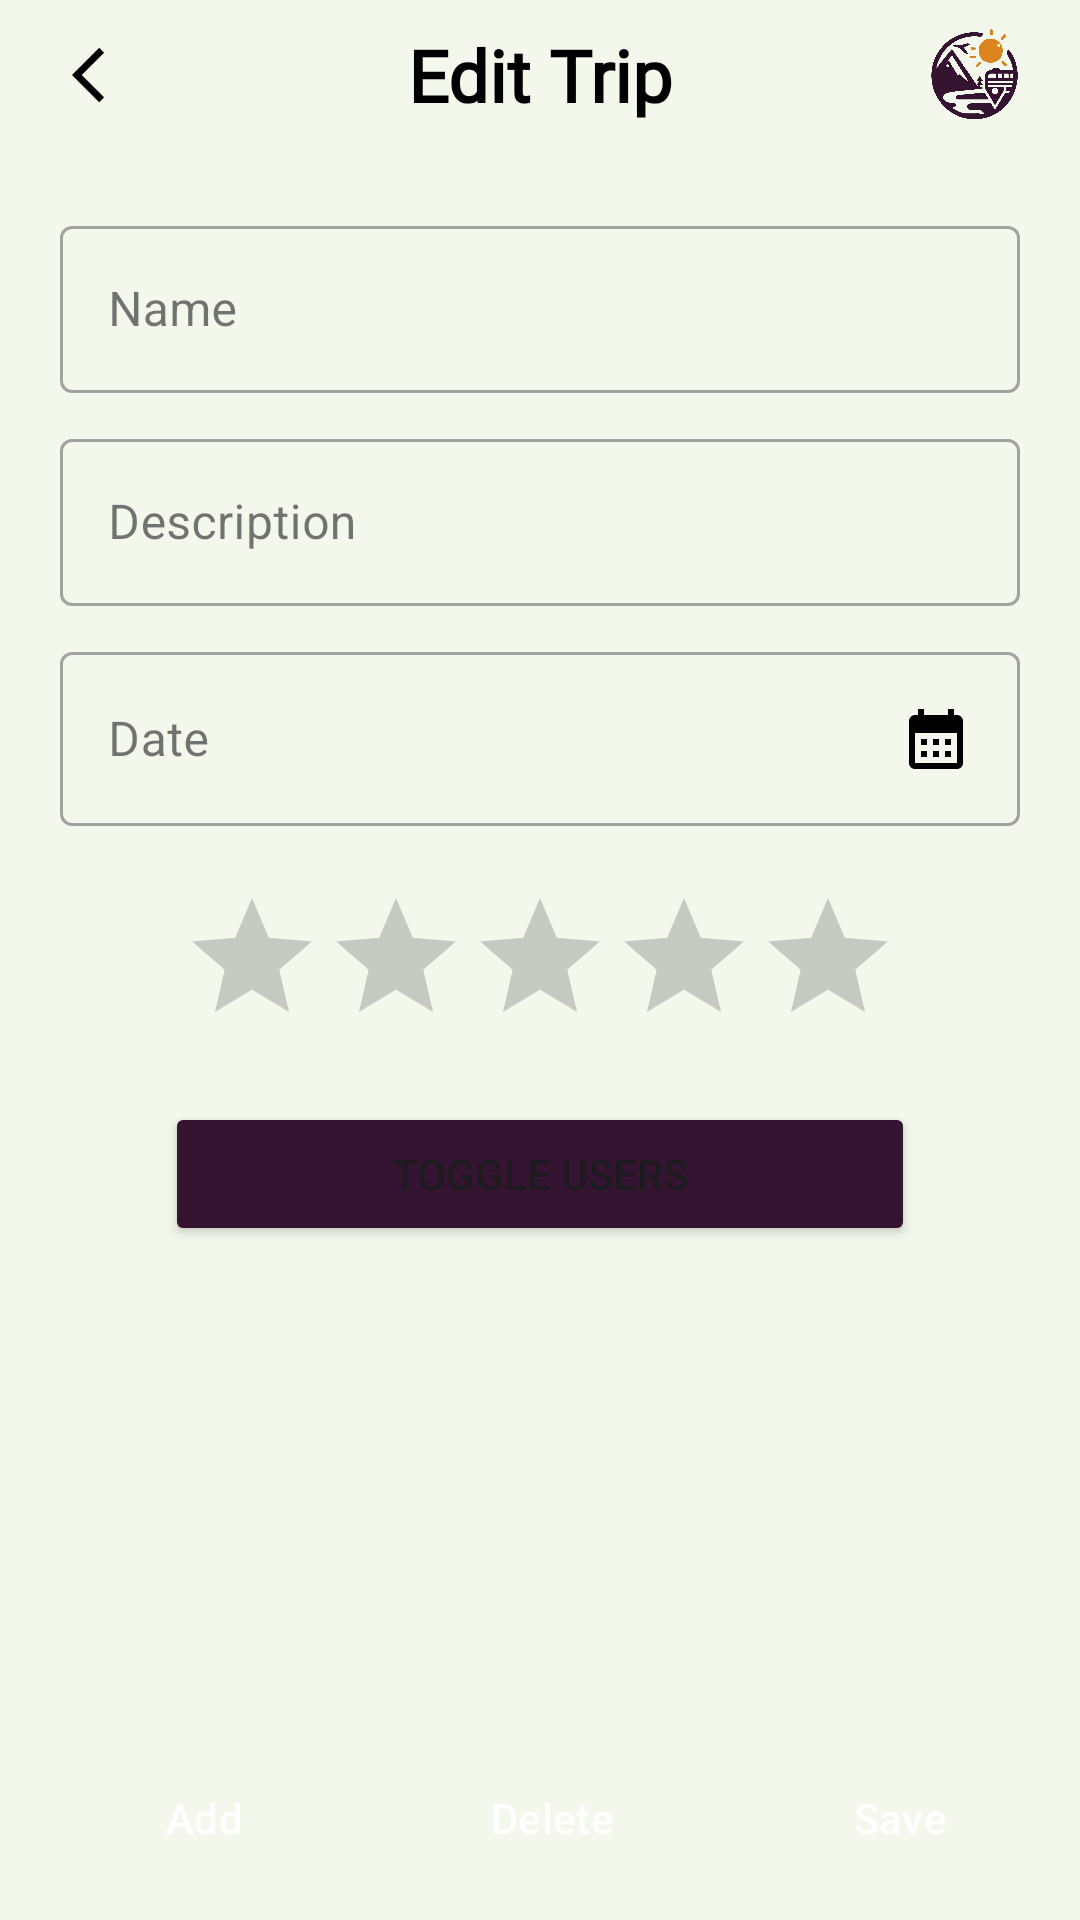

Icons on this 1080 × 1920 Android screen, each with the point to tap as [x,y]:
backward: [88,75]
